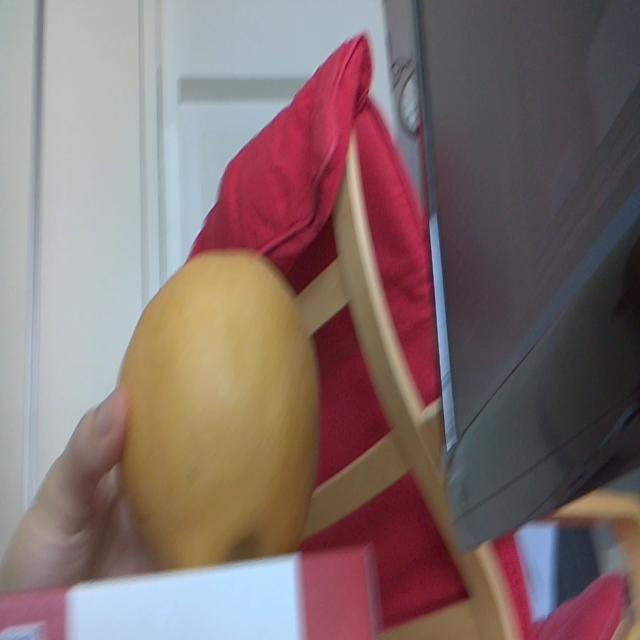pear: (116, 248, 320, 558)
